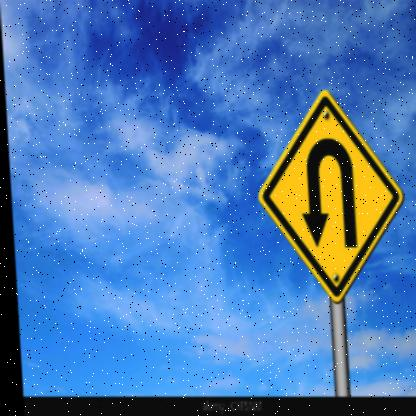U-turn: (249, 84, 414, 303)
